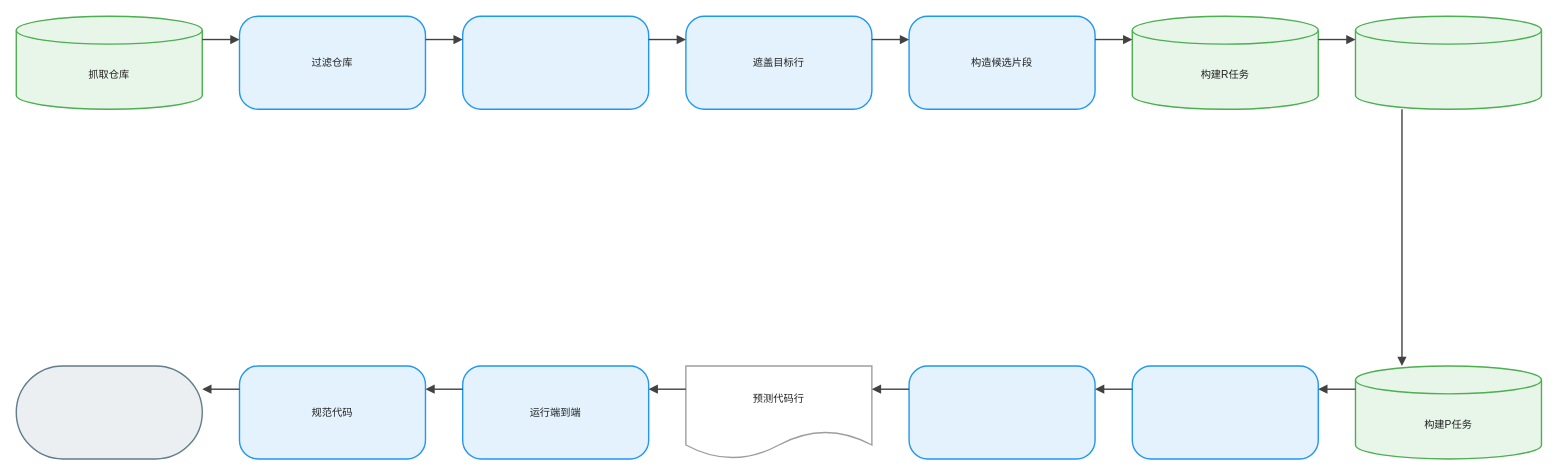
Image size: 1559x476. Some labels were removed from this diagram. Each missing label, with the box of its shape:
报告指标: (15, 365, 203, 459)
排序片段: (1131, 365, 1319, 459)
构建C任务: (1354, 15, 1542, 110)
检查Acc@k: (908, 365, 1095, 459)
解析依赖: (462, 15, 649, 110)
